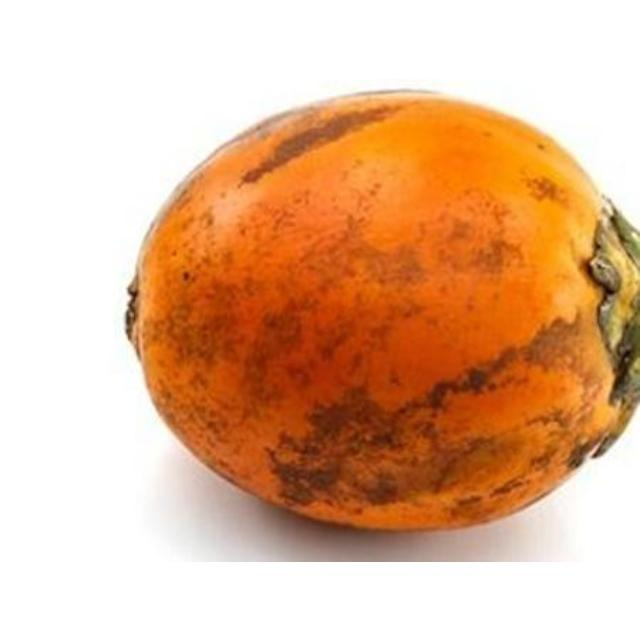good: (125, 92, 639, 535)
